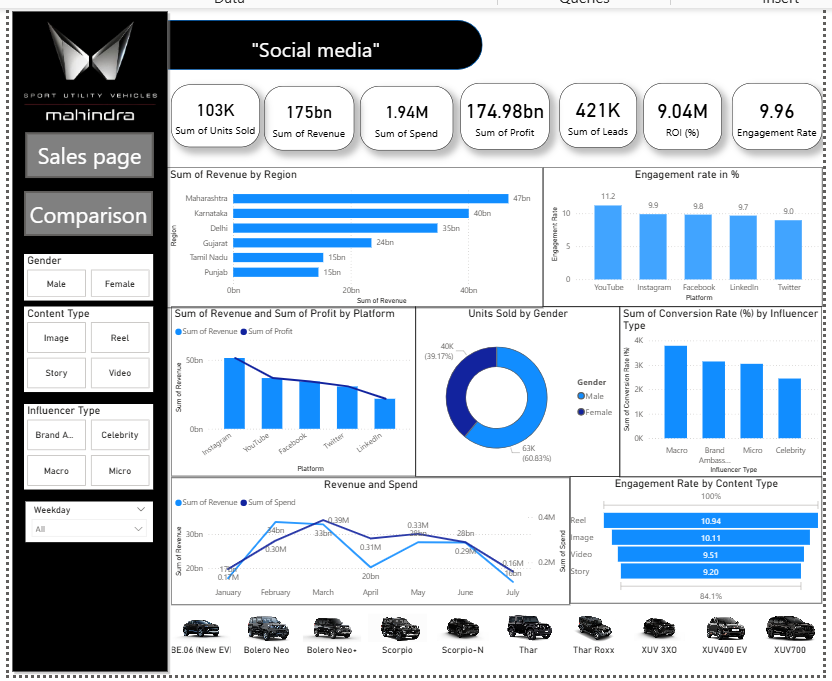

The dashboard page shown, as its layout file describes it:
{"tool":"powerbi","page":{"name":"Socail media ","canvas":[1280,1050],"ordinal":3},"visuals":[{"type":"shape","box":[131.7,20,613.3,78.3],"z":0},{"type":"shape","box":[0,0,255,1050],"z":1000},{"type":"image","box":[0,0,255,195],"z":2000},{"type":"actionButton","box":[26.7,195,201.7,71.7],"z":3000},{"type":"actionButton","box":[23.6,288.1,203.1,70.8],"z":4000},{"type":"card","fields":{"Values":["Sum(Sheet1.Spend)"]},"box":[553.3,122.2,146.7,101.1],"z":5000},{"type":"card","fields":{"Values":["Sum(Sheet1.Revenue)"]},"box":[401.4,122.8,141.7,101.5],"z":6000},{"type":"card","fields":{"Values":["Sum(Sheet1.Units Sold)"]},"box":[255.6,121.1,140,98.9],"z":7000},{"type":"textbox","box":[255.7,38.6,455.7,60],"z":8000},{"type":"card","fields":{"Values":["Sum(Sheet1.Leads)"]},"box":[866.7,118.3,121.7,101.7],"z":9000},{"type":"card","fields":{"Values":["Sheet1.Engagement Rate"]},"box":[1138.3,118.3,141.7,105],"z":10000},{"type":"card","fields":{"Values":["Sheet1.ROI (%)"]},"box":[998.3,118.3,123.3,105],"z":11000},{"type":"advancedSlicerVisual","fields":{"Values":["Mahindra_Product with img.Car_Model"]},"box":[255,952.5,1025,97.5],"z":12000},{"type":"columnChart","title":"Engagement rate in %","fields":{"Category":["Sheet1.Platform"],"Y":["Sheet1.Engagement Rate"]},"box":[840,250,440,220],"z":13000},{"type":"lineStackedColumnComboChart","fields":{"Category":["Sheet1.Platform"],"Y":["Sum(Sheet1.Revenue)"],"Y2":["Sum(Sheet1.Profit)"]},"box":[255,470,385,267.5],"z":14000},{"type":"funnel","fields":{"Category":["Sheet1.Content Type"],"Y":["Sheet1.Engagement Rate"]},"box":[883.2,736.7,396.7,200.7],"z":15000},{"type":"columnChart","fields":{"Category":["Sheet1.Influencer Type"],"Y":["Sum(Sheet1.Conversion Rate (%))"]},"box":[961.7,470,318.3,268.3],"z":16000},{"type":"donutChart","title":"Units Sold by Gender","fields":{"Category":["Sheet1.Gender"],"Y":["Sum(Sheet1.Units Sold)"]},"box":[640,470,322,268],"z":17000},{"type":"lineChart","title":"Revenue and Spend","fields":{"Y":["Sum(Sheet1.Revenue)"],"Y2":["Sum(Sheet1.Spend)"],"Category":["Sheet1.Date.Variation.Date Hierarchy.Month"]},"box":[255,739.1,628.1,200.7],"z":18000},{"type":"clusteredBarChart","fields":{"Category":["Sheet1.Region"],"Y":["Sum(Sheet1.Revenue)"]},"box":[247.9,250.3,592.7,222],"z":19000},{"type":"card","fields":{"Values":["Sum(Sheet1.Profit)"]},"box":[711.1,118.9,140,104.4],"z":20000},{"type":"advancedSlicerVisual","fields":{"Values":["Sheet1.Gender"]},"box":[23.6,387.3,203.1,73.2],"z":21000},{"type":"advancedSlicerVisual","fields":{"Values":["Sheet1.Content Type"]},"box":[23.6,469.9,203.1,134.6],"z":22000},{"type":"advancedSlicerVisual","fields":{"Values":["Sheet1.Influencer Type"]},"box":[23.6,623.4,203.1,134.6],"z":23000},{"type":"slicer","fields":{"Values":["Sheet1.Weekday"]},"box":[26,776.9,200.7,63.8],"z":24000}]}

Visuals, with their boxes in screenshot pixels (x1, y1, x2, y2):
shape: box(88, 17, 480, 67)
shape: box(4, 4, 167, 675)
image: box(4, 4, 167, 129)
actionButton: box(21, 129, 150, 175)
actionButton: box(19, 188, 149, 234)
card - Sum(Sheet1.Spend): box(358, 82, 452, 147)
card - Sum(Sheet1.Revenue): box(261, 83, 351, 148)
card - Sum(Sheet1.Units Sold): box(168, 82, 257, 145)
textbox: box(168, 29, 459, 67)
card - Sum(Sheet1.Leads): box(558, 80, 636, 145)
card - Sheet1.Engagement Rate: box(732, 80, 822, 147)
card - Sheet1.ROI (%): box(642, 80, 721, 147)
advancedSlicerVisual - Mahindra_Product with img.Car_Model: box(167, 613, 822, 675)
"Engagement rate in %" columnChart: box(541, 164, 822, 305)
lineStackedColumnComboChart - Sheet1.Platform x Sum(Sheet1.Revenue): box(167, 305, 413, 476)
funnel - Sheet1.Content Type x Sheet1.Engagement Rate: box(569, 475, 822, 603)
columnChart - Sheet1.Influencer Type x Sum(Sheet1.Conversion Rate (%)): box(619, 305, 822, 476)
"Units Sold by Gender" donutChart: box(413, 305, 619, 476)
"Revenue and Spend" lineChart: box(167, 477, 569, 605)
clusteredBarChart - Sheet1.Region x Sum(Sheet1.Revenue): box(163, 164, 541, 306)
card - Sum(Sheet1.Profit): box(459, 80, 548, 147)
advancedSlicerVisual - Sheet1.Gender: box(19, 252, 149, 299)
advancedSlicerVisual - Sheet1.Content Type: box(19, 305, 149, 391)
advancedSlicerVisual - Sheet1.Influencer Type: box(19, 403, 149, 489)
slicer - Sheet1.Weekday: box(21, 501, 149, 542)
